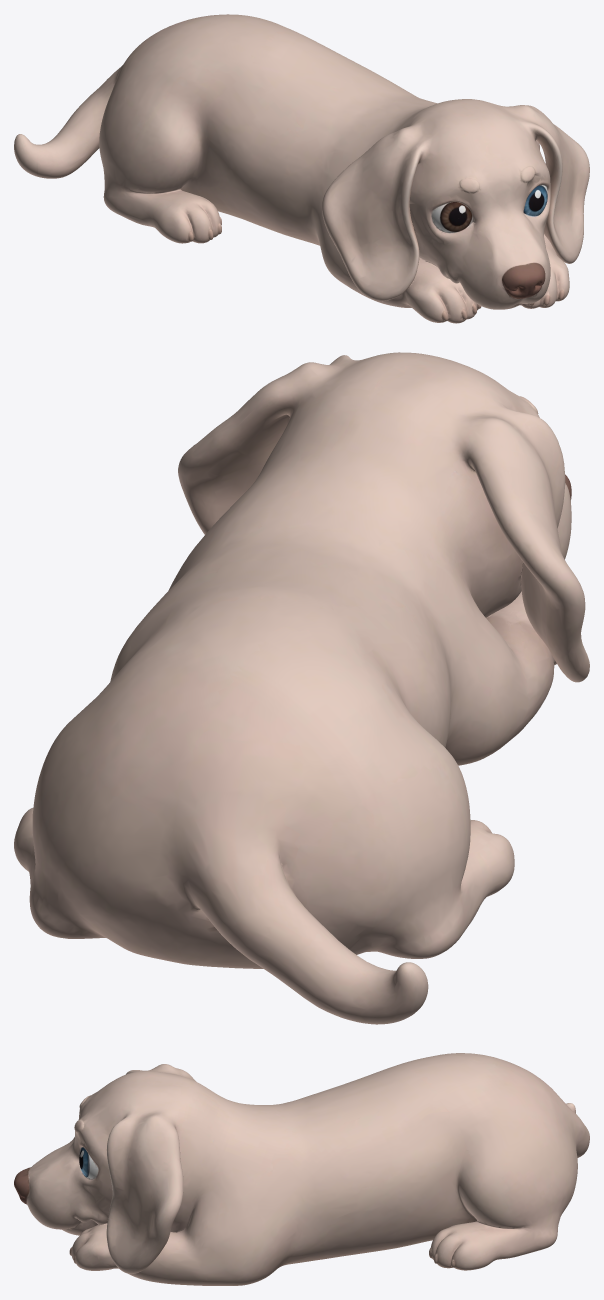
The model's file is bella.glb.
3 renders of one model, top to bottom at view 1: azimuth 30°, elevation 25°; view 2: azimuth 150°, elevation 25°; view 3: azimuth 270°, elevation 25°, orthographic. The views are drawn at different scales.
Bounding box in the file's own units: 1.27 × 0.5995 × 1.9.
Materials: 1 (1 with a texture image).
